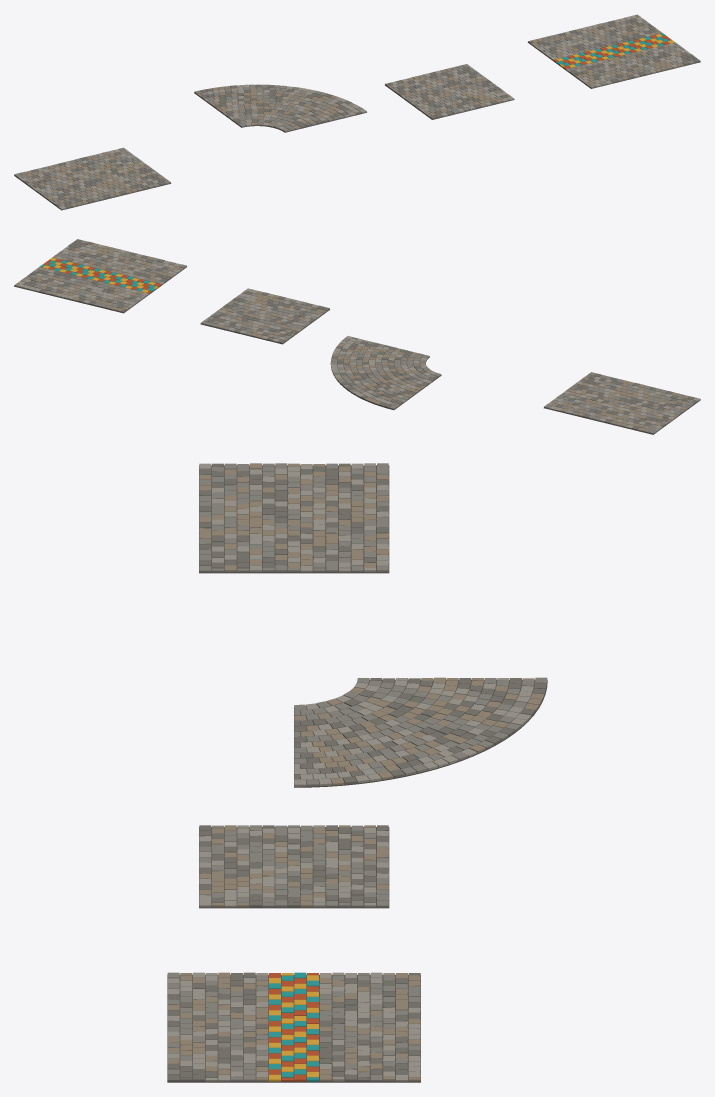
Rendered from suelo-calles-adoquin.glb.
3 views of the same model, one above another, from view 1: azimuth 30°, elevation 25°; view 2: azimuth 150°, elevation 25°; view 3: azimuth 270°, elevation 25° (orthographic). The views are drawn at different scales.
Visible parts, largest first — view 1: calle_plaza_AdoquinGris3, calle_curva_AdoquinGris1, calle_recta_AdoquinGris1, calle_plaza_AdoquinGris1, calle_recta_AdoquinCalido, calle_plaza_AdoquinCalido, calle_plaza_AdoquinGris2, calle_curva_AdoquinCalido, calle_recta_AdoquinGris3, calle_curva_AdoquinGris3, calle_curva_AdoquinGris2, calle_cruce_AdoquinGris1 (+7 smaller); view 2: calle_plaza_AdoquinGris3, calle_recta_AdoquinGris1, calle_curva_AdoquinGris1, calle_plaza_AdoquinGris1, calle_recta_AdoquinCalido, calle_plaza_AdoquinCalido, calle_curva_AdoquinCalido, calle_plaza_AdoquinGris2, calle_recta_AdoquinGris3, calle_curva_AdoquinGris3, calle_cruce_AdoquinGris1, calle_curva_AdoquinGris2 (+7 smaller); view 3: calle_curva_AdoquinGris1, calle_recta_AdoquinGris1, calle_plaza_AdoquinGris3, calle_plaza_AdoquinGris1, calle_recta_AdoquinCalido, calle_plaza_AdoquinCalido, calle_curva_AdoquinCalido, calle_plaza_AdoquinGris2, calle_curva_AdoquinGris3, calle_recta_AdoquinGris3, calle_cruce_AdoquinGris1, calle_curva_AdoquinGris2 (+10 smaller).
Boxes of the visible parts, x1,y1,x2,y2 form: calle_plaza_AdoquinGris3: (534, 15, 690, 86); calle_curva_AdoquinGris1: (194, 84, 363, 131); calle_recta_AdoquinGris1: (14, 147, 170, 206); calle_plaza_AdoquinGris1: (537, 21, 695, 88); calle_recta_AdoquinCalido: (25, 151, 164, 206); calle_plaza_AdoquinCalido: (531, 14, 684, 85); calle_plaza_AdoquinGris2: (528, 18, 700, 82); calle_curva_AdoquinCalido: (197, 85, 355, 129); calle_recta_AdoquinGris3: (17, 149, 159, 209); calle_curva_AdoquinGris3: (203, 84, 366, 130); calle_curva_AdoquinGris2: (200, 84, 361, 127); calle_cruce_AdoquinGris1: (391, 64, 502, 116); calle_plaza_AdoquinGris3: (17, 244, 180, 307); calle_recta_AdoquinGris1: (544, 372, 694, 434); calle_curva_AdoquinGris1: (331, 338, 441, 409); calle_plaza_AdoquinGris1: (24, 240, 186, 309); calle_recta_AdoquinCalido: (550, 376, 689, 431); calle_plaza_AdoquinCalido: (14, 243, 183, 311); calle_curva_AdoquinCalido: (332, 343, 432, 407); calle_plaza_AdoquinGris2: (23, 239, 170, 312); calle_recta_AdoquinGris3: (547, 376, 700, 431); calle_curva_AdoquinGris3: (331, 336, 436, 404); calle_cruce_AdoquinGris1: (200, 292, 326, 338); calle_curva_AdoquinGris2: (331, 337, 438, 408); calle_curva_AdoquinGris1: (294, 677, 547, 786); calle_recta_AdoquinGris1: (199, 463, 388, 572); calle_plaza_AdoquinGris3: (167, 972, 420, 1081); calle_plaza_AdoquinGris1: (167, 972, 420, 1081); calle_recta_AdoquinCalido: (199, 463, 388, 572); calle_plaza_AdoquinCalido: (167, 972, 420, 1081); calle_curva_AdoquinCalido: (294, 677, 544, 785); calle_plaza_AdoquinGris2: (167, 972, 420, 1081); calle_curva_AdoquinGris3: (294, 678, 533, 786); calle_recta_AdoquinGris3: (199, 463, 388, 572); calle_cruce_AdoquinGris1: (199, 825, 388, 907); calle_curva_AdoquinGris2: (294, 678, 546, 784).
Bounding box in the file's own units: 46 × 0.103 × 12.
